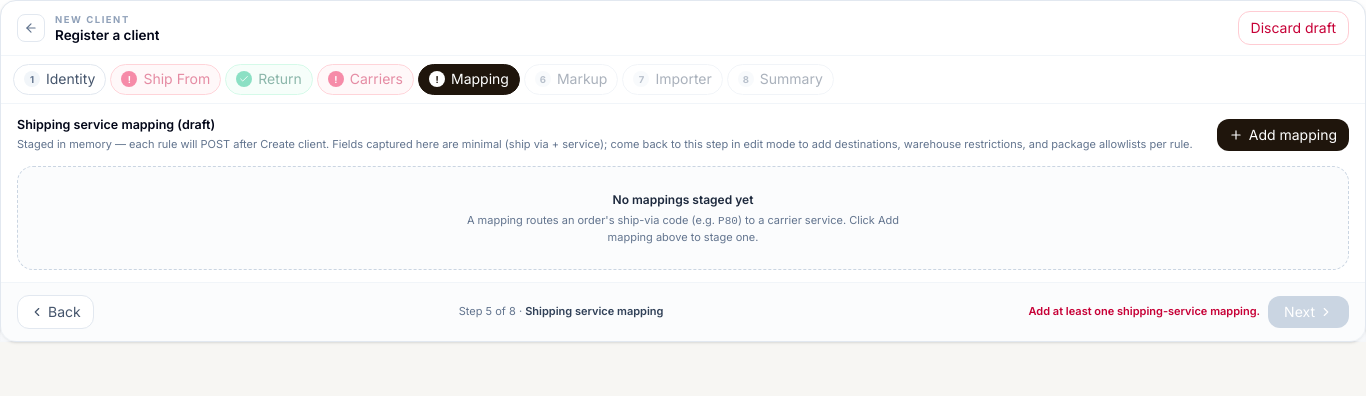
MappingDraftStep — create mode positive cases › adds a valid draft to the list on Add-to-list
The width and height of the screenshot is (1366, 396).
Click the button "Add mapping": (1283,135) [1217,118,1349,151]
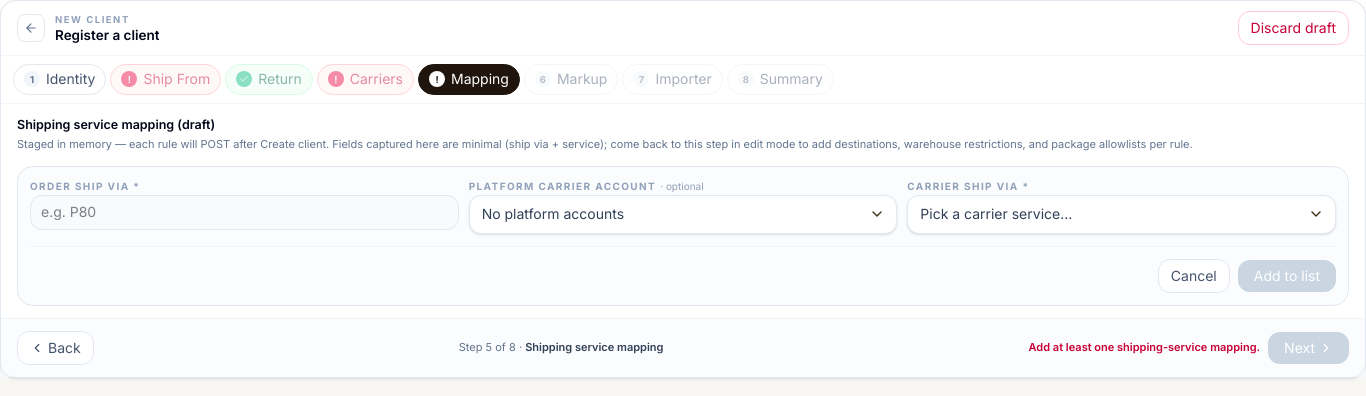
In the field with placeholder "e.g. P80": (244,212) [30,195,459,230], type "P80"
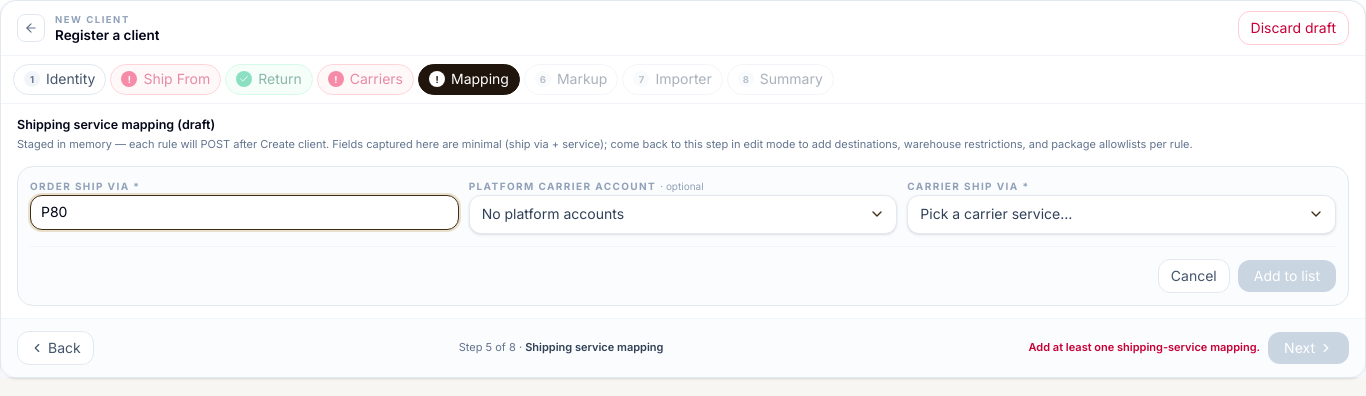
Pick the UPS Ground service — grab its option's parent select and drive change.
Select "UPS — UPS Ground" in the dropdown labelled "Carrier Ship Via *": (1122,214) [907,195,1336,234]
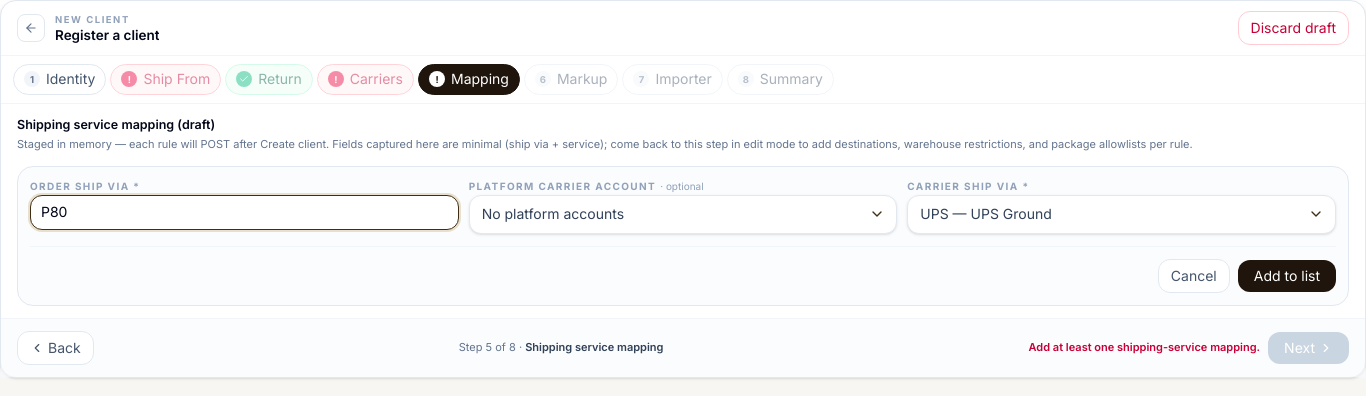
Click the button "Add to list": (1287,276) [1238,260,1336,292]
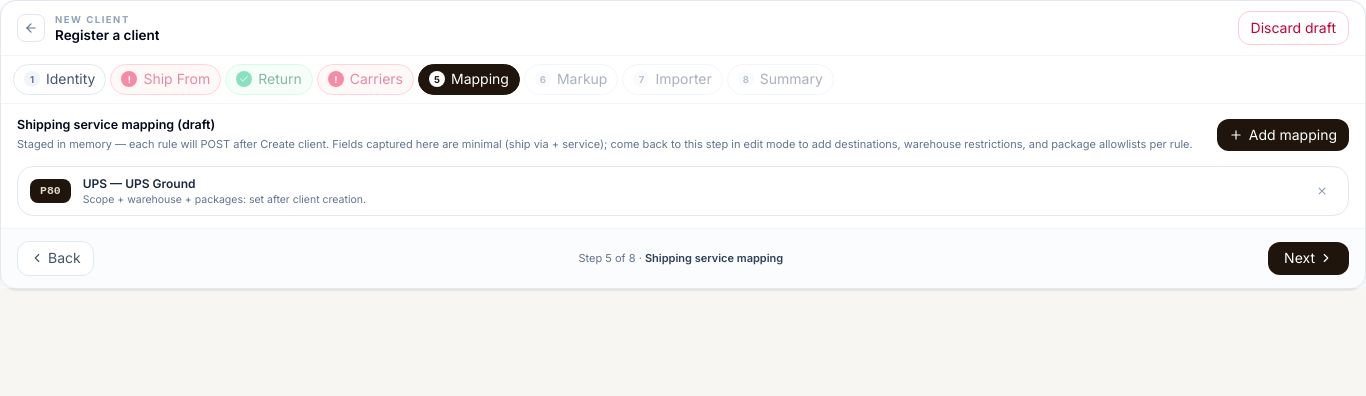
Expected: the text "P80" is shown, [30,179,71,203]
Expected: the text "UPS — UPS Ground" is shown, [83,176,196,191]
Expected: the button named "Remove P80" is shown, [1308,177,1336,205]
